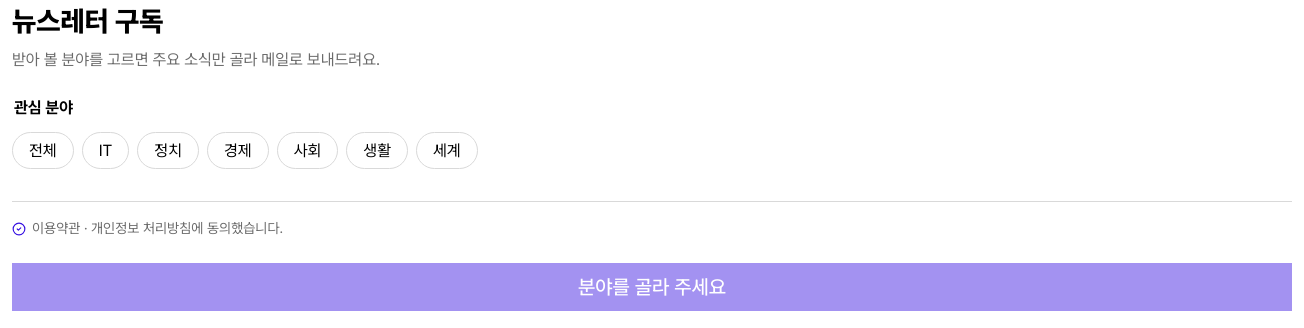
Test: SubscribeSheet (#52) › 일시정지했다 다시 시작하는 사용자는 약관 동의 없이 구독할 수 있다
The width and height of the screenshot is (1304, 328).
Click the button "경제": (238, 150) [207,132,269,169]
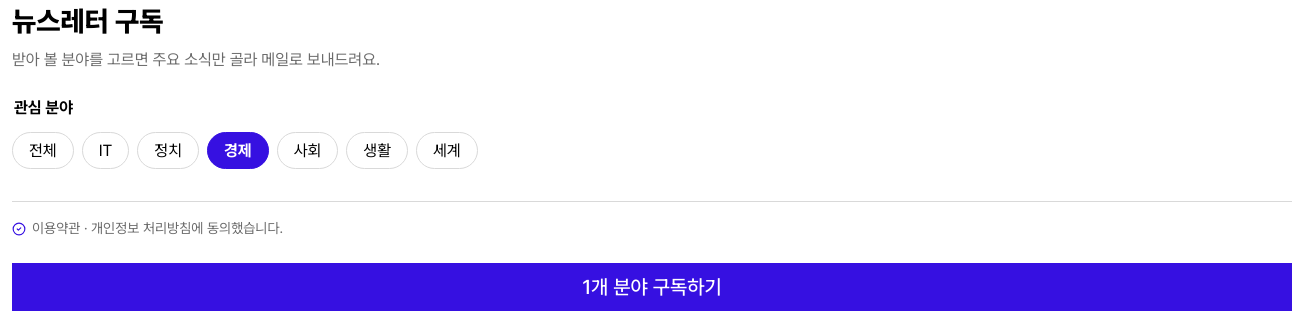
Check: the button "1개 분야 구독하기" is enabled, box [12,263,1292,311]
